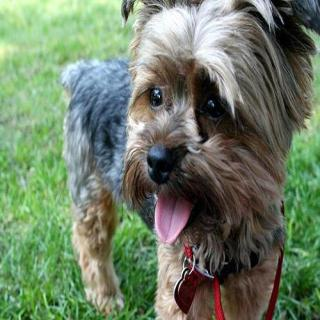dog: (107, 0, 320, 229)
nose: (144, 142, 181, 187)
